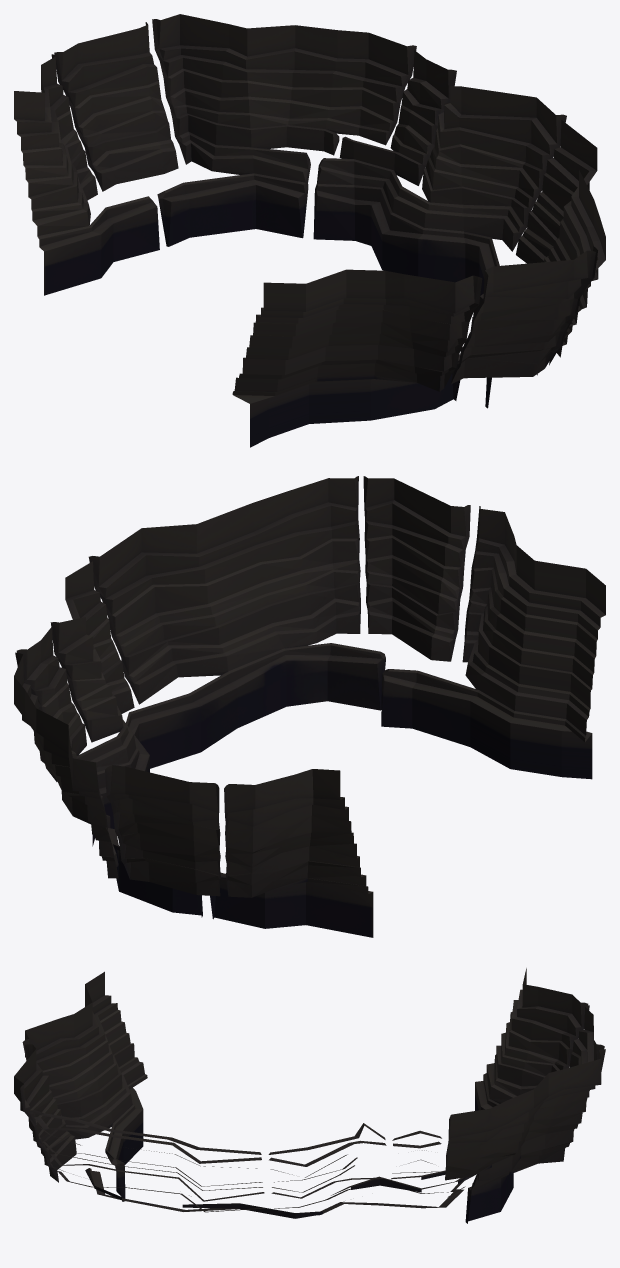
The model's file is Wall_01.FBX.
3 views of the same model, one above another, from view 1: azimuth 30°, elevation 25°; view 2: azimuth 150°, elevation 25°; view 3: azimuth 270°, elevation 25° (orthographic). The views are drawn at different scales.
Parts seen in each view (by area): view 1: Wall_01; view 2: Wall_01; view 3: Wall_01.
Boxes of the visible parts, x1,y1,x2,y2 form: Wall_01: (14,14,605,447); Wall_01: (14,476,605,937); Wall_01: (14,968,605,1223).
Size of the model in its own units: 24.08 by 10.4 by 36.31.
